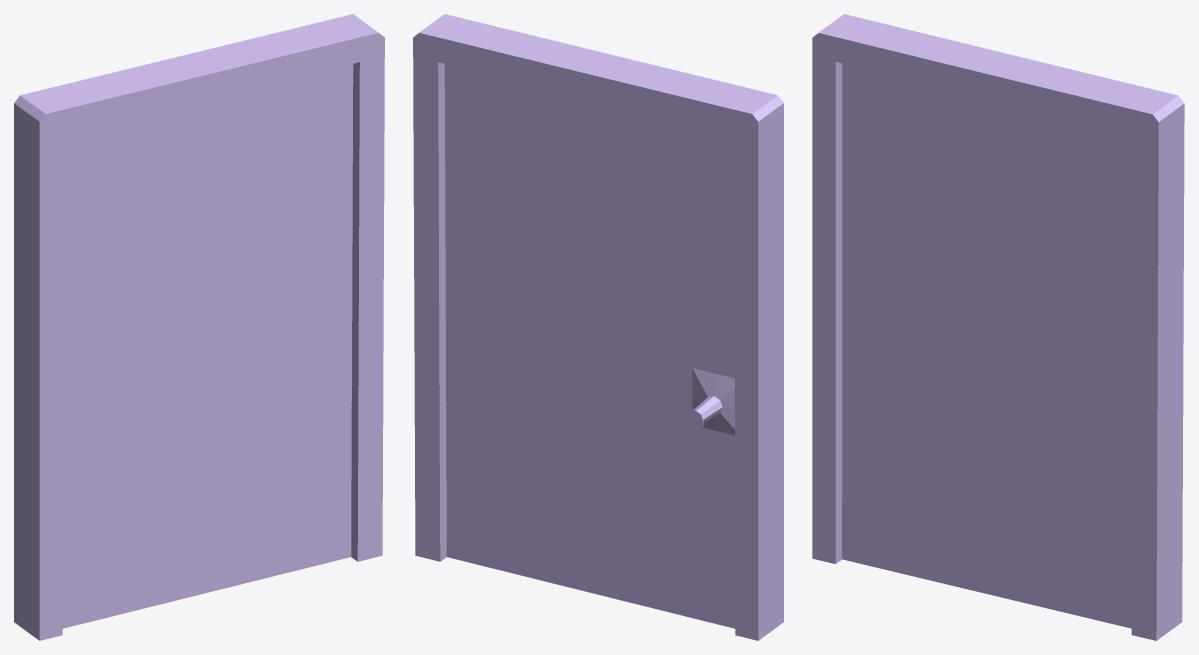
File: Porta_Normal.fbx
3 renders of one model, left to right at view 1: azimuth 30°, elevation 25°; view 2: azimuth 150°, elevation 25°; view 3: azimuth 330°, elevation 25°, orthographic.
Visible parts, largest first — view 1: Porta_normal, Canto_porta_normal; view 2: Porta_normal, Canto_porta_normal; view 3: Porta_normal, Canto_porta_normal.
Boxes of the visible parts, bbox=[...] form: Porta_normal: bbox=[62, 64, 353, 628]; Canto_porta_normal: bbox=[14, 14, 384, 640]; Porta_normal: bbox=[444, 64, 735, 628]; Canto_porta_normal: bbox=[413, 14, 783, 640]; Porta_normal: bbox=[842, 63, 1133, 628]; Canto_porta_normal: bbox=[812, 14, 1184, 640].
Bounding box in the file's own units: 161 × 234 × 35.76.
